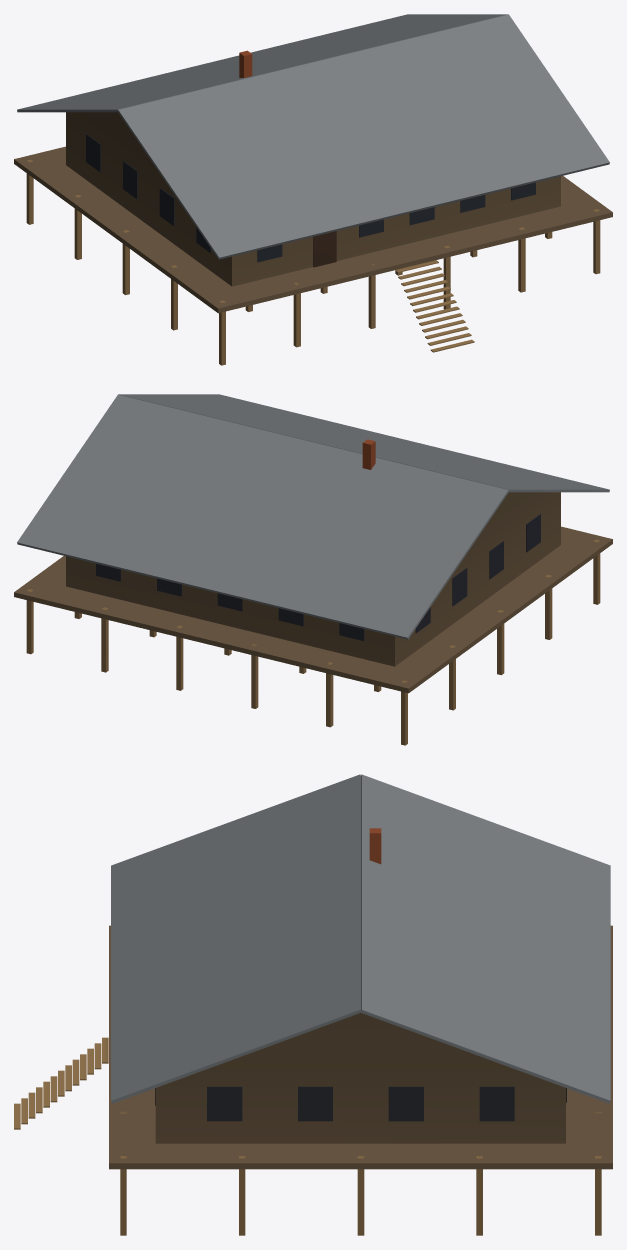
Rendered from shell_bayou_fishcamp_lod1.glb.
3 renders of one model, top to bottom at view 1: azimuth 30°, elevation 25°; view 2: azimuth 150°, elevation 25°; view 3: azimuth 270°, elevation 25°, orthographic. The views are drawn at different scales.
Parts seen in each view (by area): view 1: shell_bayou_fishcamp_lod1; view 2: shell_bayou_fishcamp_lod1; view 3: shell_bayou_fishcamp_lod1.
Part boxes in pixels (x1,y1,x2,y2): shell_bayou_fishcamp_lod1: (14,14,612,365); shell_bayou_fishcamp_lod1: (14,394,612,745); shell_bayou_fishcamp_lod1: (14,774,612,1235).
Size of the model in its own units: 19.2 by 9.55 by 20.44.
